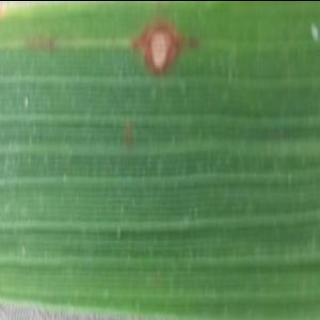Blast: (120, 18, 194, 70)
